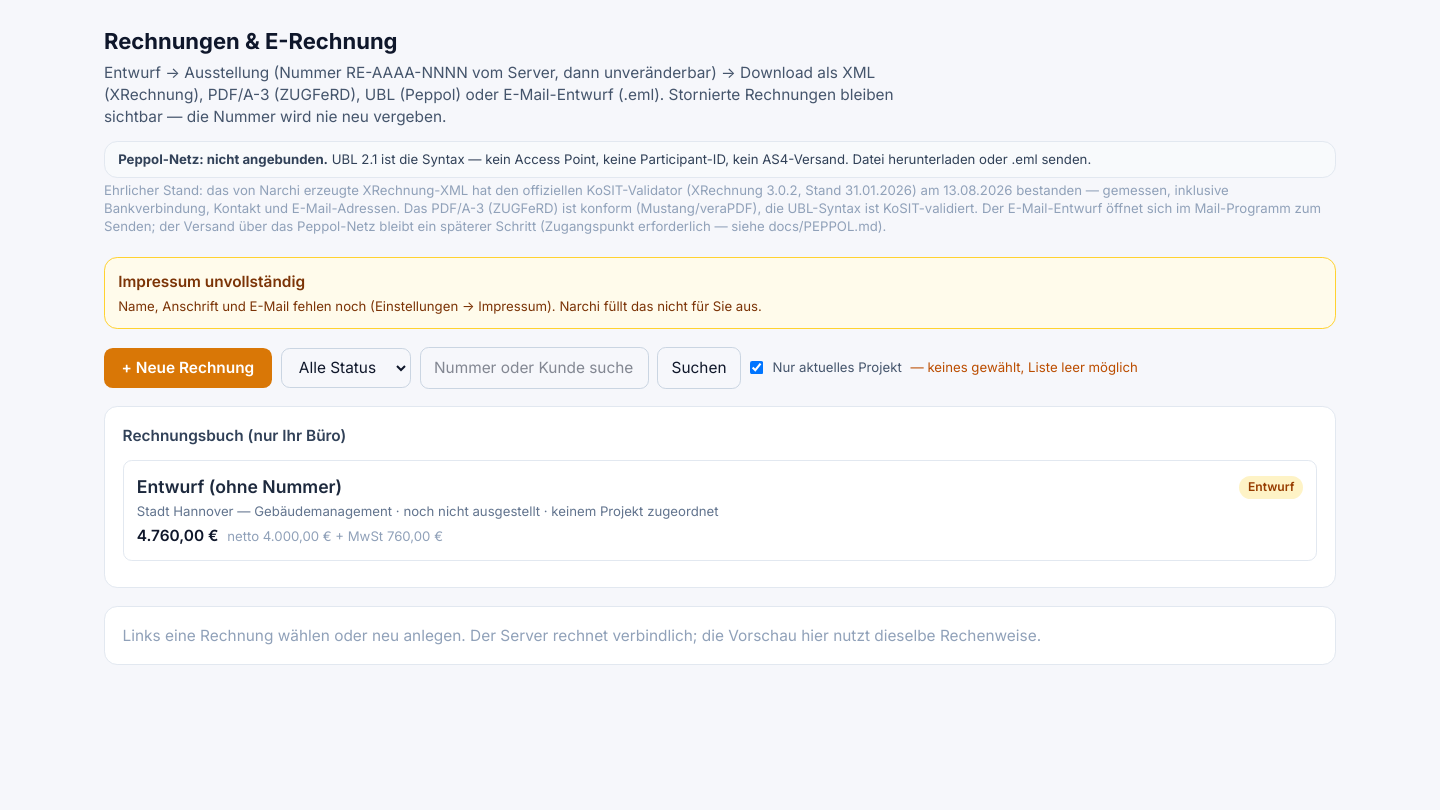
Test case: Page Rechnungen §116 › refus d'émission : violations NARCHI-XR-… affichées TELLES QUELLES
Click the button that starts with "Entwurf (ohne Nummer)": [720, 510] box x1=123 y1=460 x2=1317 y2=561
(page scrolled)
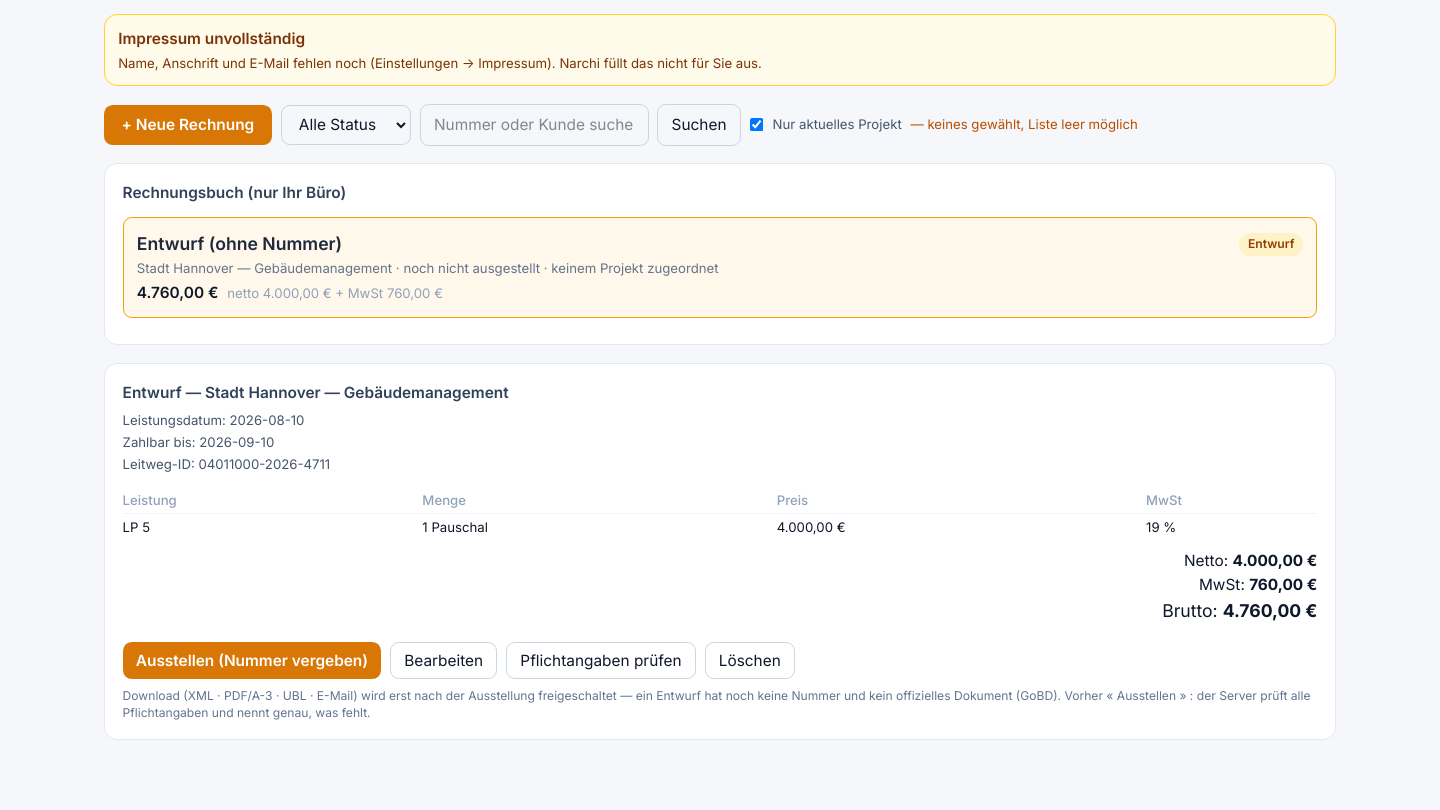
Check: the button "Ausstellen (Nummer vergeben)" is shown
Click the button "Ausstellen (Nummer vergeben)": [252, 661] box x1=123 y1=642 x2=381 y2=679
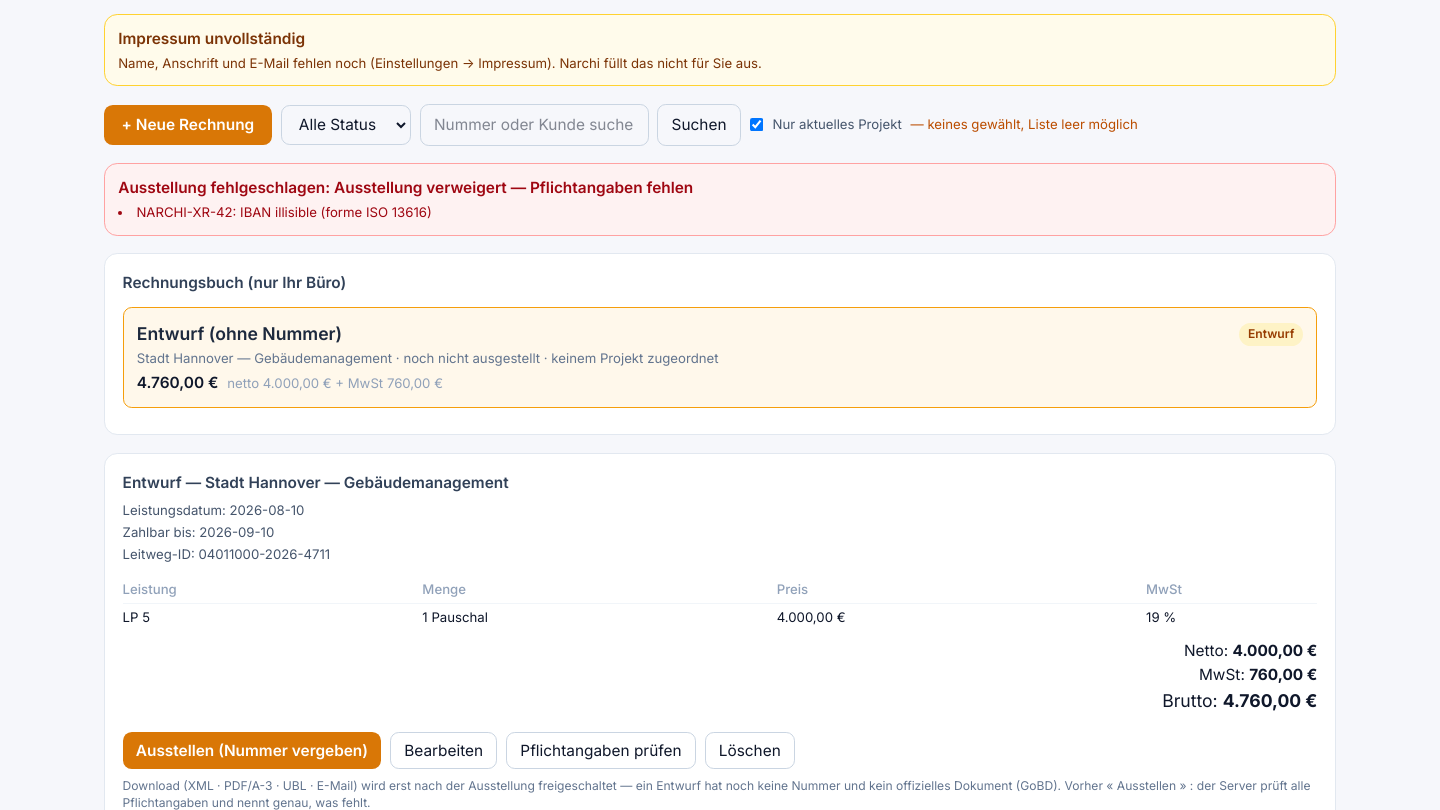
Check: the text "Ausstellung fehlgeschlagen: Ausstellung verweigert — Pflichtangaben fehlen" is shown, box x1=118 y1=178 x2=693 y2=198
Check: the text "NARCHI-XR-42: IBAN illisible (forme ISO 13616)" is shown, box x1=136 y1=204 x2=432 y2=220
